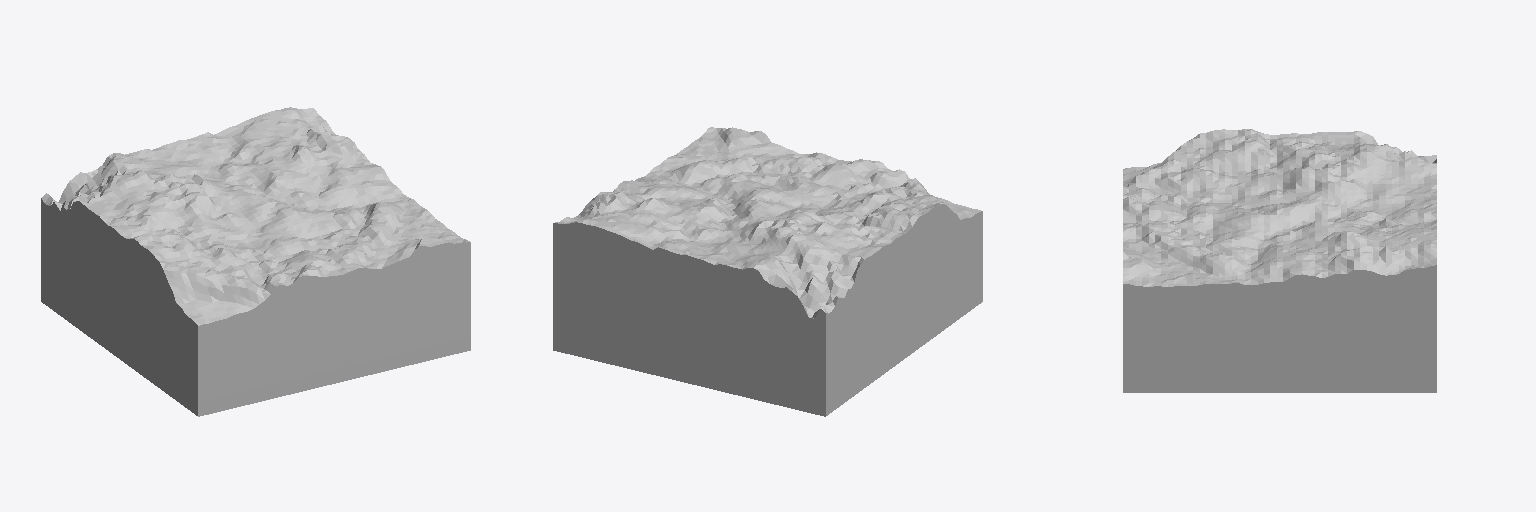
File: block_1_0.obj
3 renders of one model, left to right at view 1: azimuth 30°, elevation 25°; view 2: azimuth 150°, elevation 25°; view 3: azimuth 270°, elevation 25°, orthographic.
Parts seen in each view (by area): view 1: Mesh_4; view 2: Mesh_4; view 3: Mesh_4.
Boxes of the visible parts, <box> form: Mesh_4: <box>41,107,470,416</box>; Mesh_4: <box>553,127,982,416</box>; Mesh_4: <box>1123,129,1436,392</box>.
Size of the model in its own units: 0.1 by 0.0492 by 0.1.